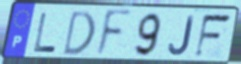9: (132, 11, 163, 58)
D: (61, 9, 97, 58)
F: (93, 8, 134, 60), (193, 13, 234, 60)
J: (167, 15, 196, 57)
L: (32, 11, 57, 54)
